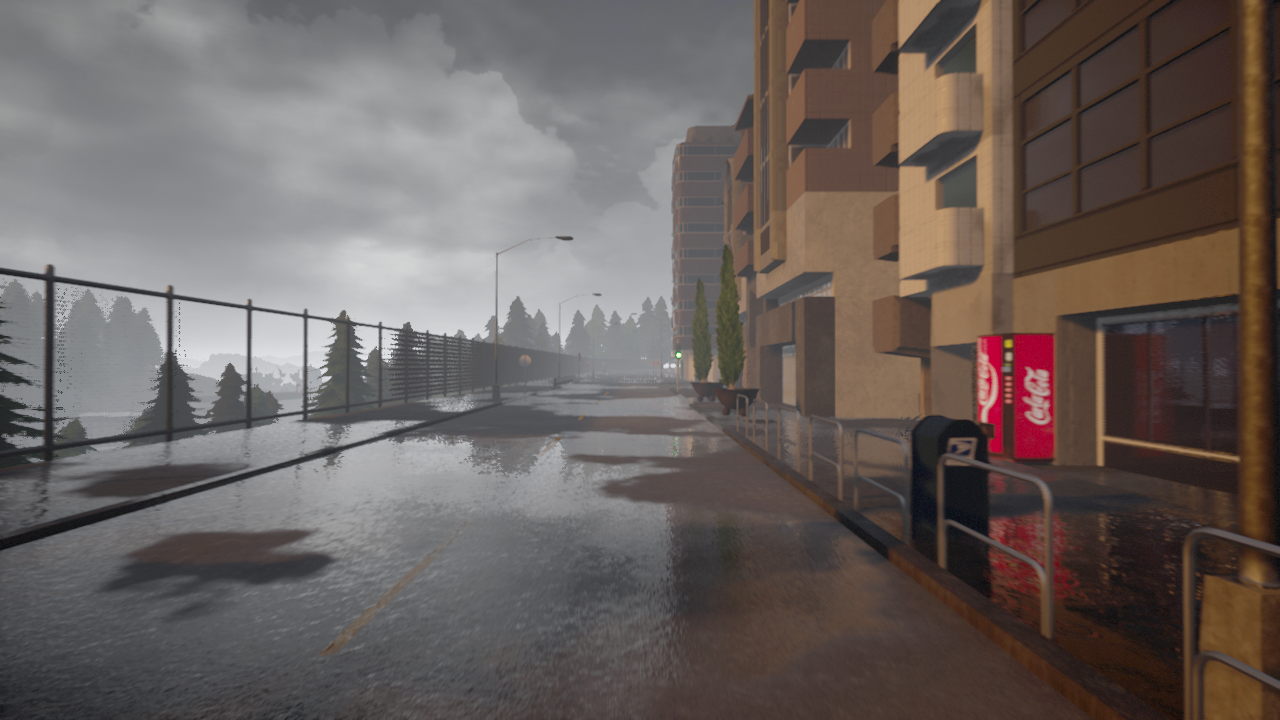green: (675, 342, 681, 360)
